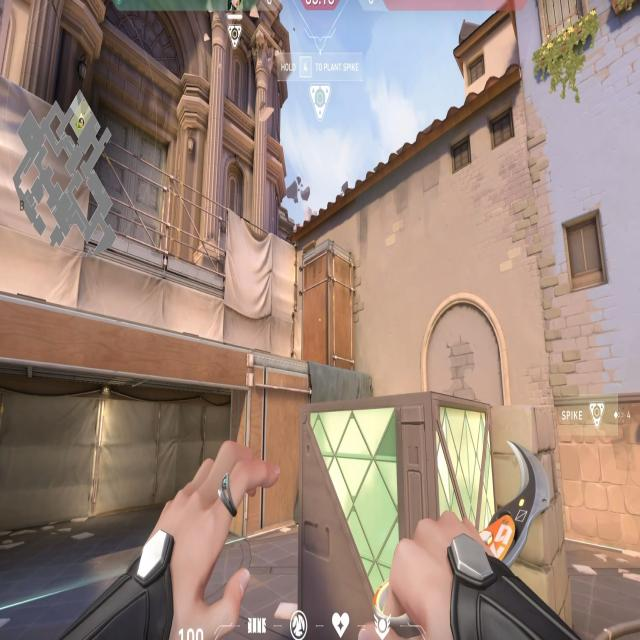A_Heaven_Box: (301, 238, 361, 363)
A_Hell: (0, 308, 255, 583)
A_Site_Box: (302, 399, 576, 640)
